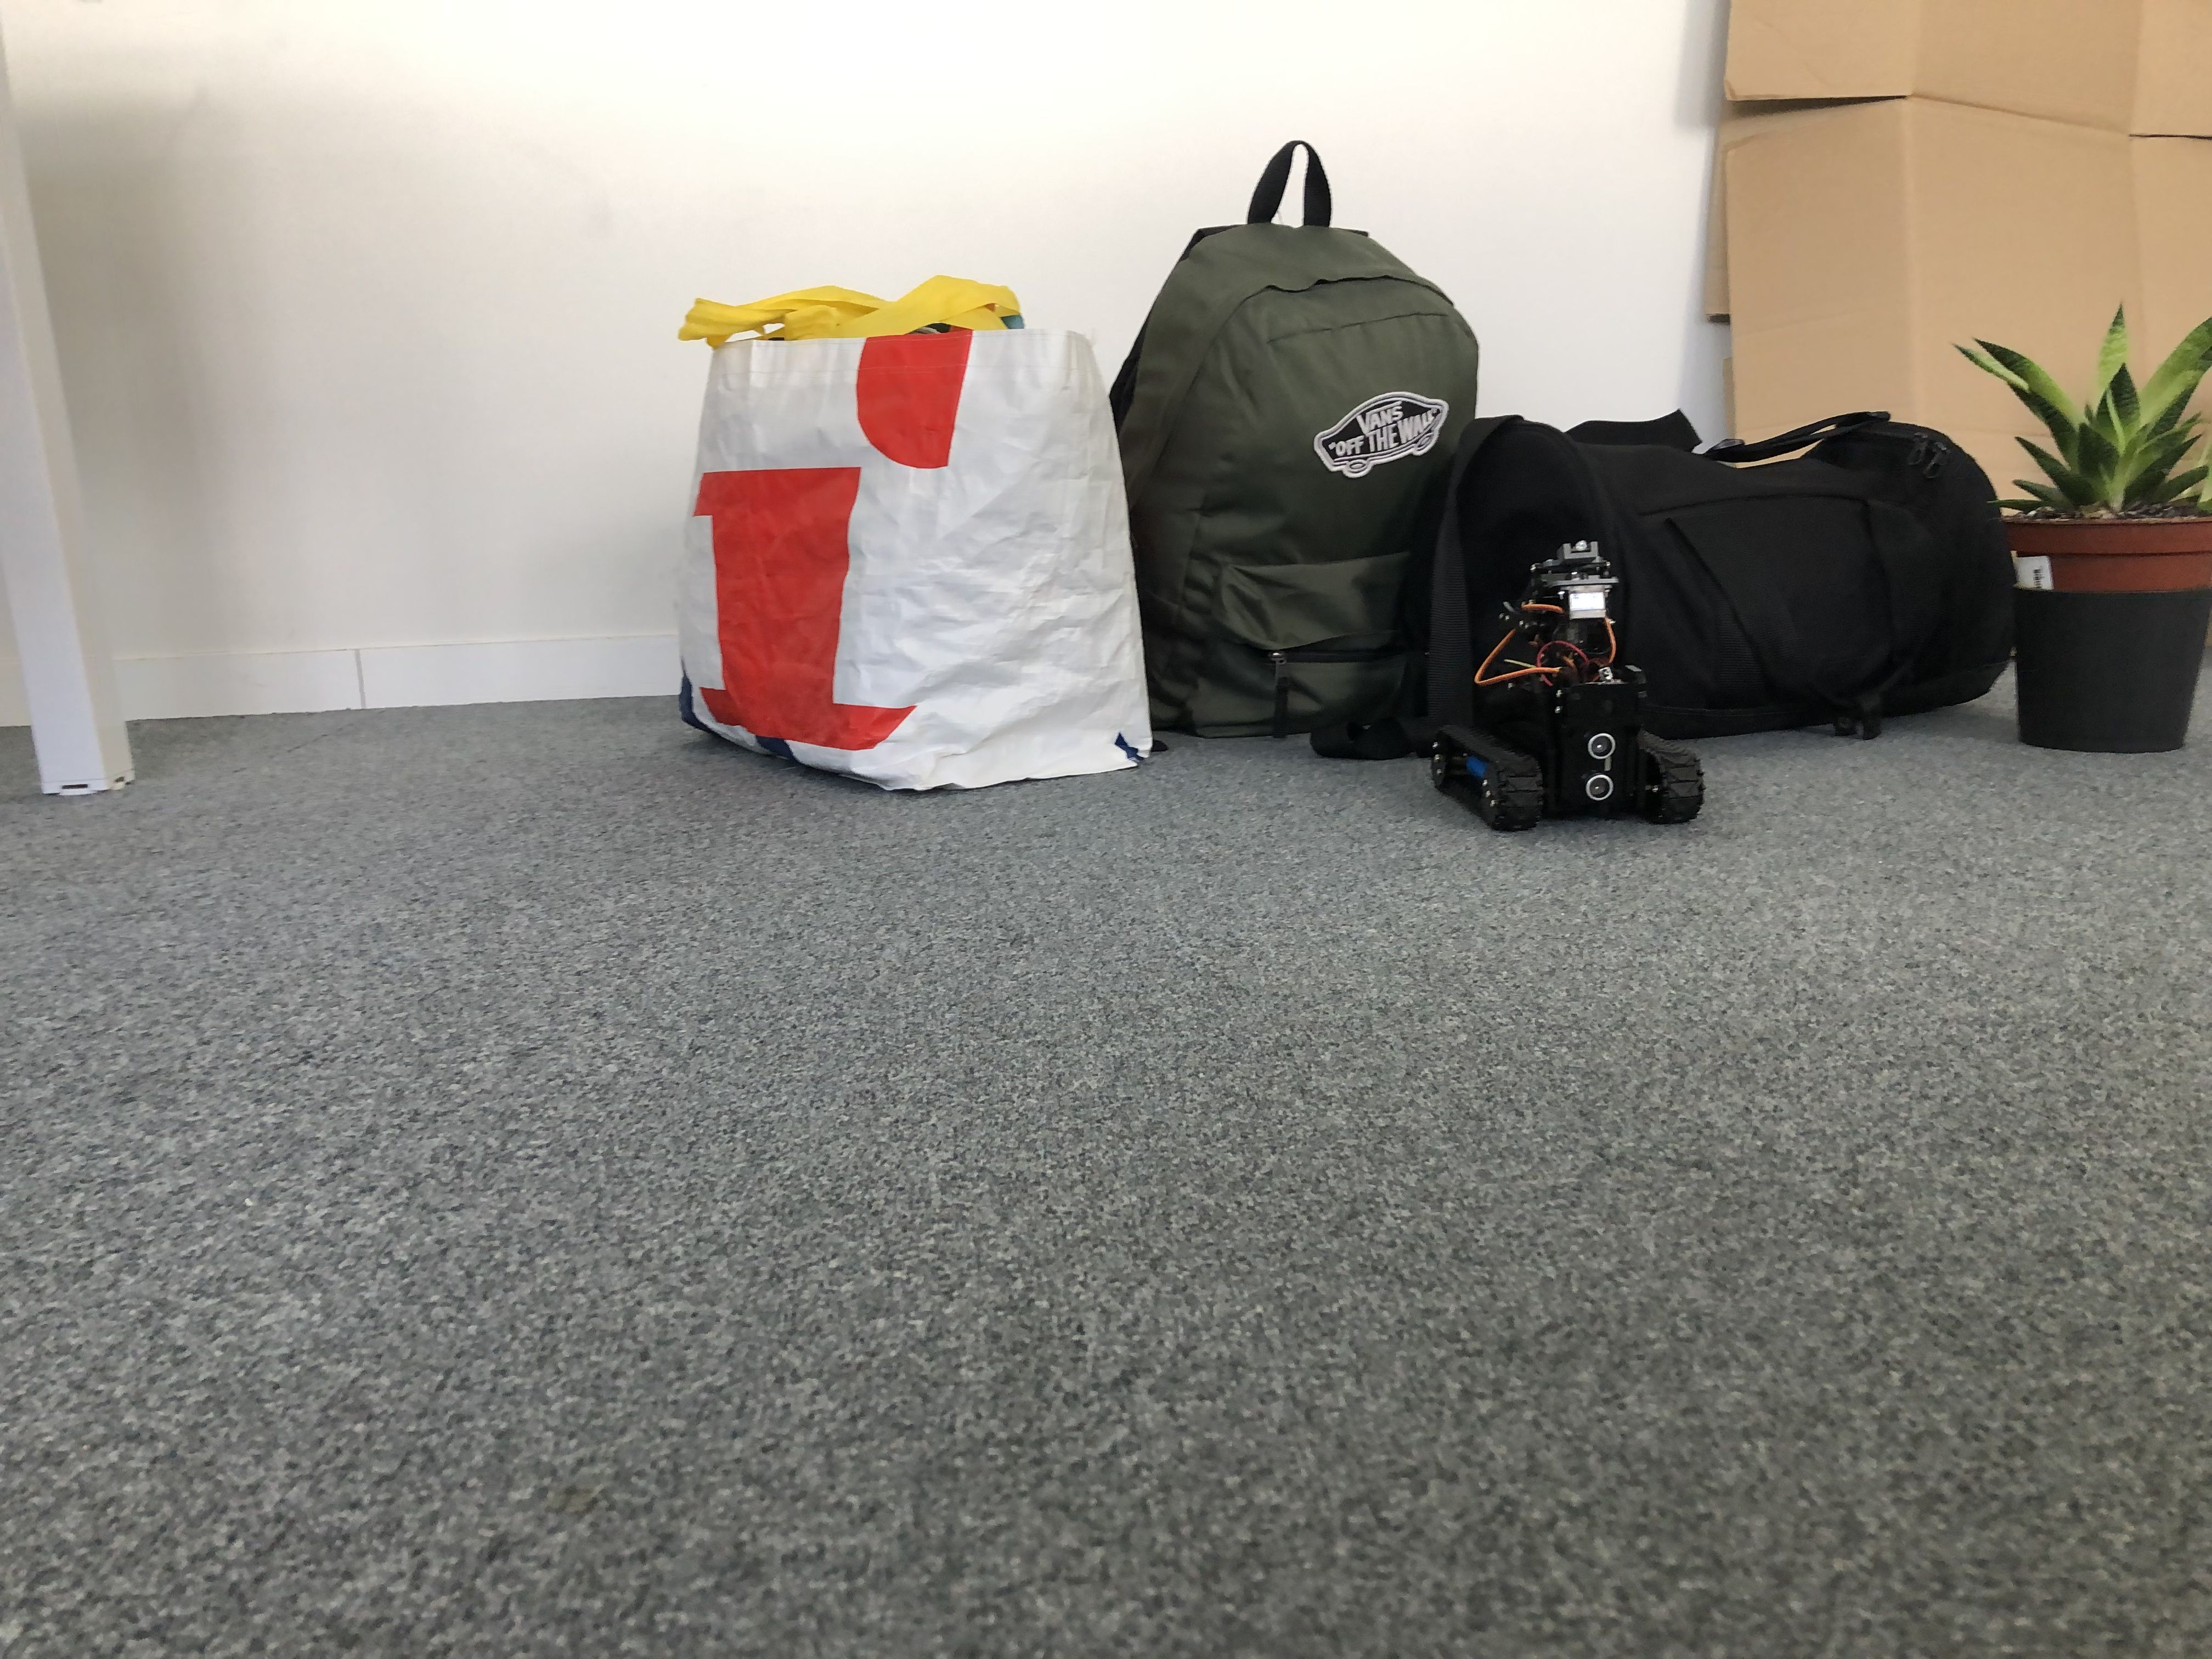rasptank: (1423, 538, 1719, 836)
